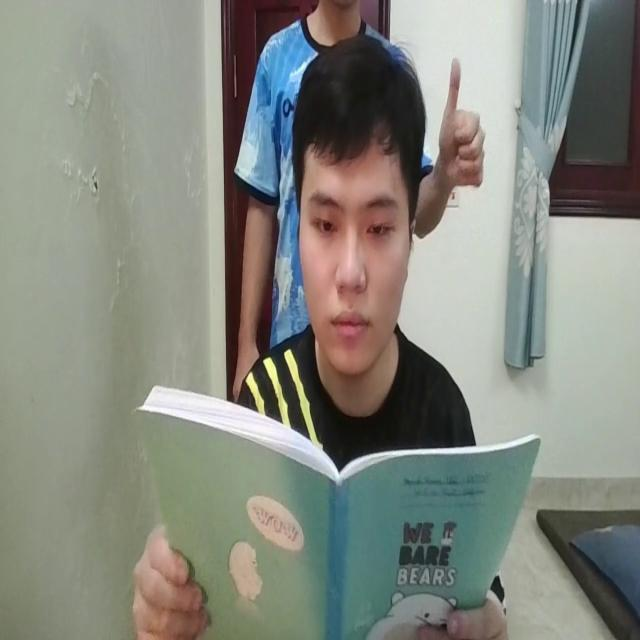book: (136, 392, 543, 640)
student: (286, 41, 429, 430)
